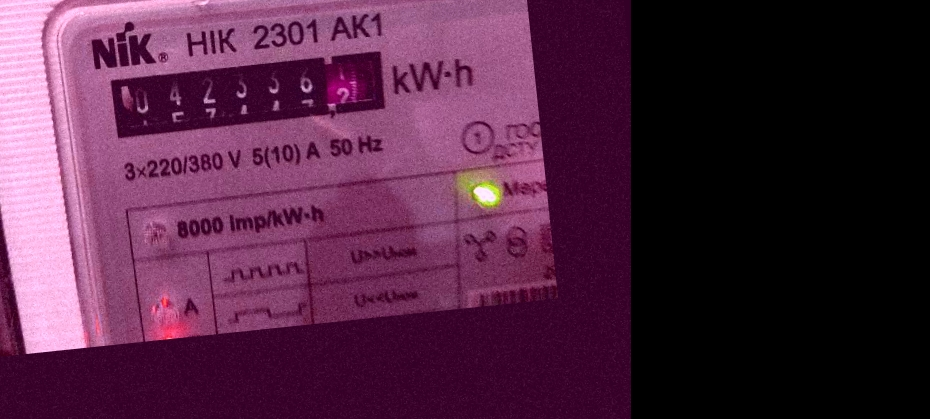0: (131, 85, 149, 114)
1: (332, 58, 346, 81)
2: (198, 74, 217, 104), (333, 84, 350, 103)
3: (261, 64, 280, 96), (230, 69, 247, 99)
4: (164, 76, 184, 107)
6: (295, 62, 315, 94)
screen: (96, 36, 399, 147)
